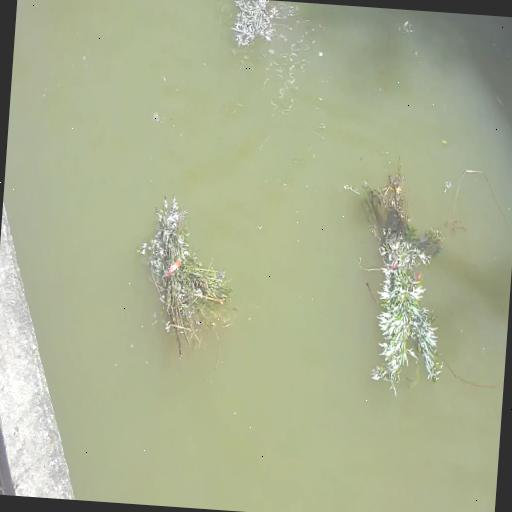twig: (345, 154, 458, 396), (132, 192, 242, 366), (228, 0, 303, 56)
